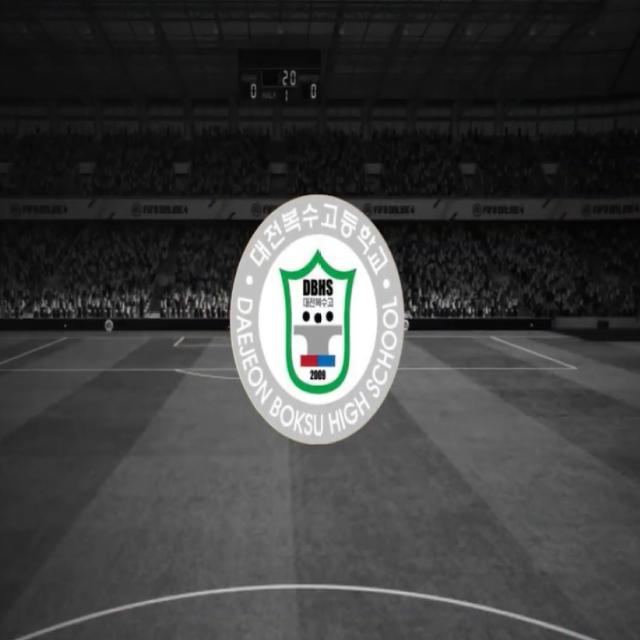logo: (220, 176, 415, 454)
